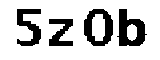0: (82, 5, 114, 50)
5: (11, 5, 44, 50)
b: (117, 5, 150, 50)
z: (46, 16, 77, 48)
